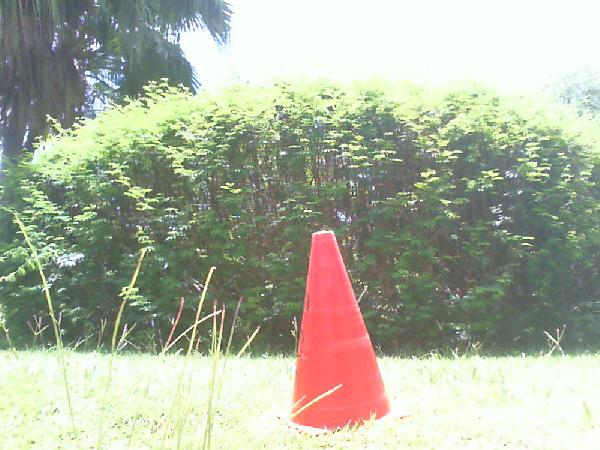0 cone: (290, 231, 414, 435)
